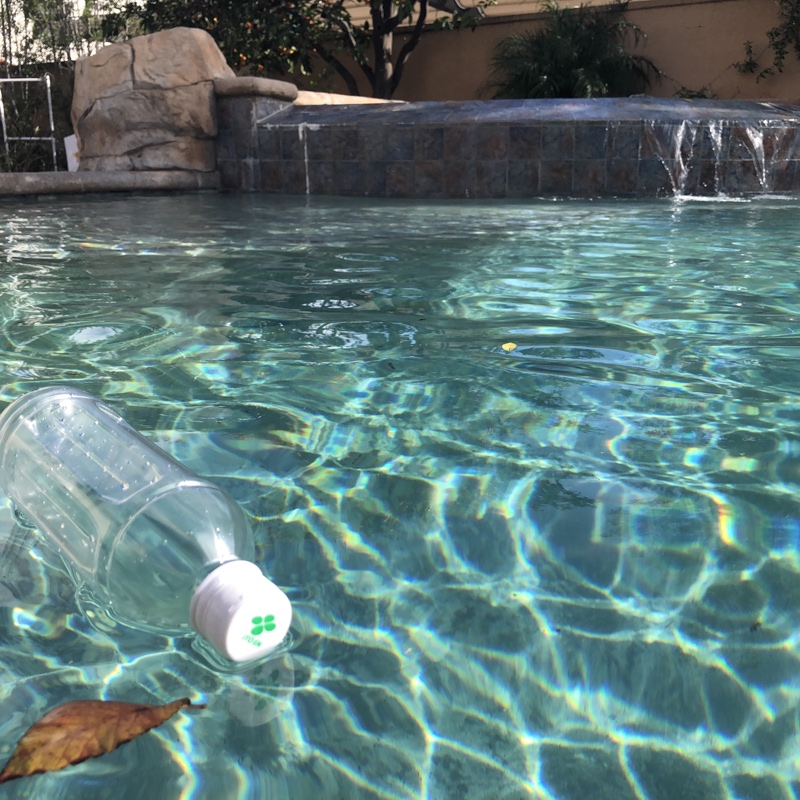Plastic Bottle: (1, 383, 295, 674)
